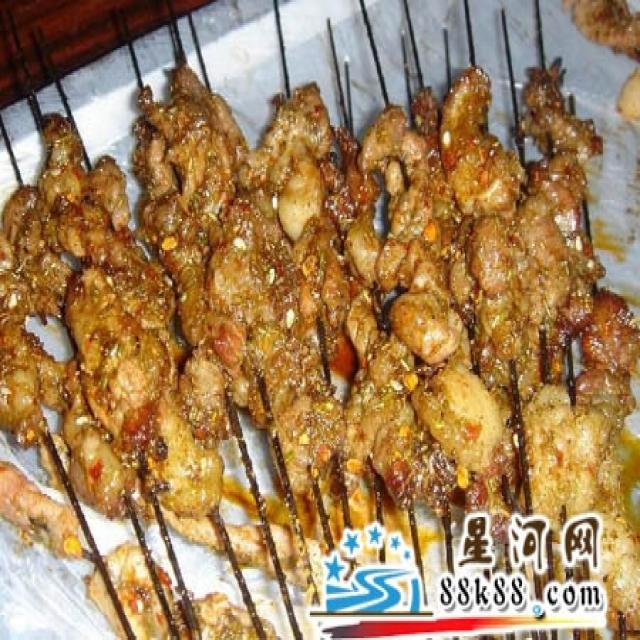烧串烤肉: (10, 38, 629, 548)
